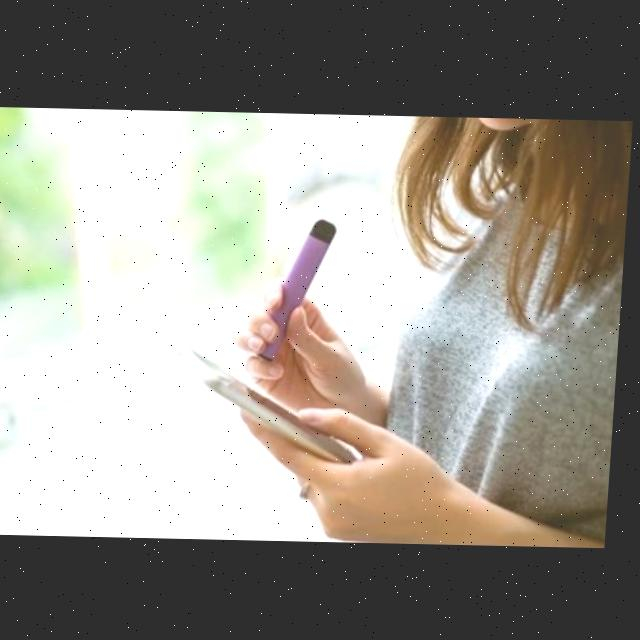vape: (261, 214, 341, 361)
